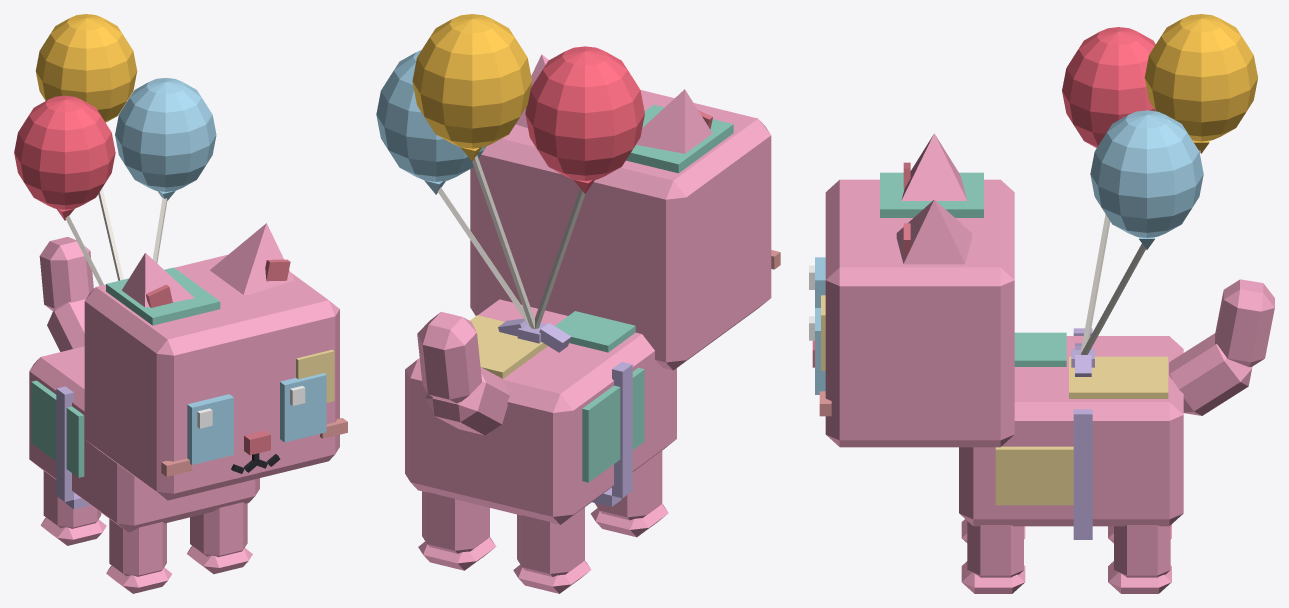
Rendered from CatCafe_Cat_Balloon.glb.
3 renders of one model, left to right at view 1: azimuth 30°, elevation 25°; view 2: azimuth 150°, elevation 25°; view 3: azimuth 270°, elevation 25°, orthographic. The views are drawn at different scales.
Visible parts, largest first — view 1: CatCafe_Cat_Balloon_Head, CatCafe_Cat_Balloon_Prop, CatCafe_Cat_Balloon_Body, CatCafe_Cat_Balloon_Tail, CatCafe_Cat_Balloon_LegF2, CatCafe_Cat_Balloon_LegF1, CatCafe_Cat_Balloon_EarL, CatCafe_Cat_Balloon_Eye2, CatCafe_Cat_Balloon_Eye1, CatCafe_Cat_Balloon_LegB2, CatCafe_Cat_Balloon_EarR; view 2: CatCafe_Cat_Balloon_Head, CatCafe_Cat_Balloon_Prop, CatCafe_Cat_Balloon_Body, CatCafe_Cat_Balloon_Tail, CatCafe_Cat_Balloon_LegB2, CatCafe_Cat_Balloon_LegB1, CatCafe_Cat_Balloon_LegF2, CatCafe_Cat_Balloon_EarR; view 3: CatCafe_Cat_Balloon_Head, CatCafe_Cat_Balloon_Prop, CatCafe_Cat_Balloon_Body, CatCafe_Cat_Balloon_Tail, CatCafe_Cat_Balloon_LegF1, CatCafe_Cat_Balloon_LegB1, CatCafe_Cat_Balloon_EarL, CatCafe_Cat_Balloon_EarR, CatCafe_Cat_Balloon_Eye1, CatCafe_Cat_Balloon_Eye2.
Part boxes in pixels (bbox=[...]): CatCafe_Cat_Balloon_Head: bbox=[84, 254, 347, 500]; CatCafe_Cat_Balloon_Prop: bbox=[14, 14, 216, 509]; CatCafe_Cat_Balloon_Body: bbox=[29, 346, 259, 532]; CatCafe_Cat_Balloon_Tail: bbox=[39, 237, 93, 351]; CatCafe_Cat_Balloon_LegF2: bbox=[106, 519, 171, 593]; CatCafe_Cat_Balloon_LegF1: bbox=[187, 502, 252, 574]; CatCafe_Cat_Balloon_EarL: bbox=[210, 223, 294, 294]; CatCafe_Cat_Balloon_Eye2: bbox=[187, 394, 233, 464]; CatCafe_Cat_Balloon_Eye1: bbox=[280, 373, 326, 442]; CatCafe_Cat_Balloon_LegB2: bbox=[40, 471, 106, 545]; CatCafe_Cat_Balloon_EarR: bbox=[121, 253, 194, 307]; CatCafe_Cat_Balloon_Head: bbox=[470, 90, 780, 370]; CatCafe_Cat_Balloon_Prop: bbox=[376, 14, 644, 506]; CatCafe_Cat_Balloon_Body: bbox=[405, 299, 676, 524]; CatCafe_Cat_Balloon_Tail: bbox=[417, 311, 509, 435]; CatCafe_Cat_Balloon_LegB2: bbox=[513, 507, 591, 593]; CatCafe_Cat_Balloon_LegB1: bbox=[418, 491, 496, 570]; CatCafe_Cat_Balloon_LegF2: bbox=[590, 450, 668, 537]; CatCafe_Cat_Balloon_EarR: bbox=[636, 89, 712, 153]; CatCafe_Cat_Balloon_Head: bbox=[812, 172, 1014, 447]; CatCafe_Cat_Balloon_Prop: bbox=[1062, 14, 1257, 539]; CatCafe_Cat_Balloon_Body: bbox=[959, 332, 1183, 526]; CatCafe_Cat_Balloon_Tail: bbox=[1169, 279, 1274, 415]; CatCafe_Cat_Balloon_LegF1: bbox=[961, 521, 1025, 593]; CatCafe_Cat_Balloon_LegB1: bbox=[1108, 525, 1171, 593]; CatCafe_Cat_Balloon_EarL: bbox=[896, 199, 971, 264]; CatCafe_Cat_Balloon_EarR: bbox=[901, 133, 967, 200]; CatCafe_Cat_Balloon_Eye1: bbox=[809, 308, 825, 394]; CatCafe_Cat_Balloon_Eye2: bbox=[809, 257, 825, 307].
Size of the model in its own units: 1.1 by 2.55 by 1.97.
Materials: 1 (1 with a texture image).
